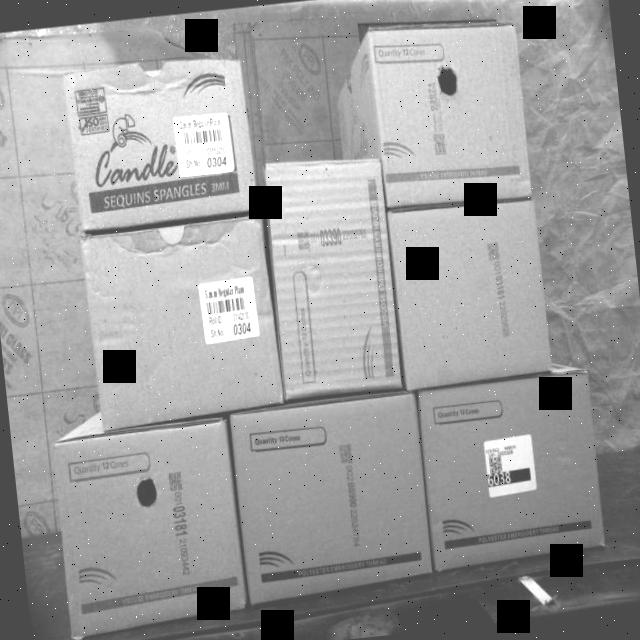box: (227, 392, 436, 608), (77, 212, 285, 426), (52, 419, 248, 635), (416, 372, 610, 574), (61, 52, 260, 234), (260, 153, 400, 400), (366, 10, 534, 212), (387, 190, 553, 388)
